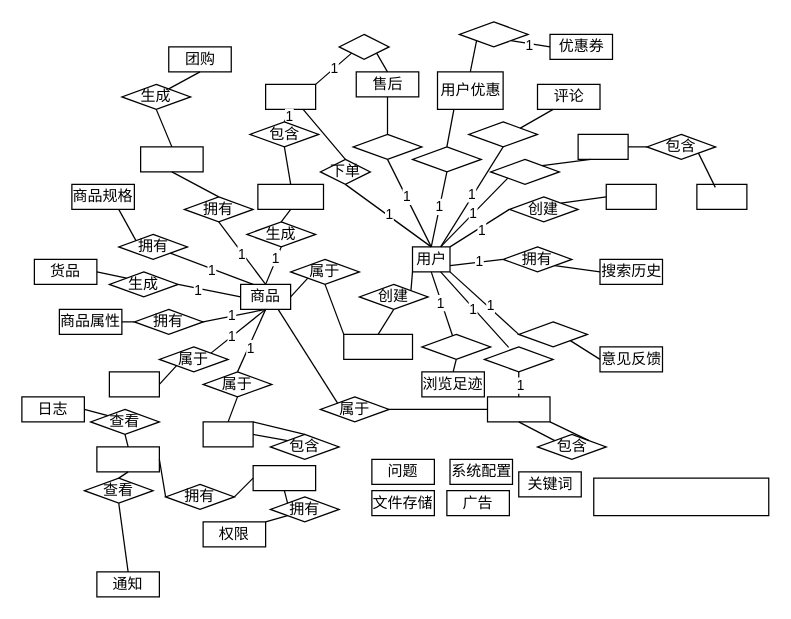
The diagram is 791 pixels wide and 619 high, and some of its shapes have lost their labels. Each missing label, with the box of its shape:
主题: (486, 396, 550, 422)
产生: (421, 333, 491, 359)
位于: (489, 158, 559, 184)
使用: (411, 146, 481, 172)
关注: (483, 346, 553, 372)
分类: (202, 421, 253, 447)
区域: (696, 183, 747, 209)
发表: (468, 121, 538, 147)
品牌: (108, 371, 159, 397)
团购规则: (139, 146, 203, 172)
地址: (577, 133, 628, 159)
声请: (338, 33, 389, 59)
提出: (518, 321, 588, 347)
收藏: (342, 333, 412, 359)
管理员: (96, 446, 159, 472)
联系售后: (352, 133, 422, 159)
角色: (252, 464, 316, 491)
订单: (264, 83, 316, 109)
订单商品: (257, 183, 324, 209)
说明：不注明的是多: (592, 477, 769, 516)
购物车: (605, 183, 656, 209)
领取: (458, 21, 528, 47)
